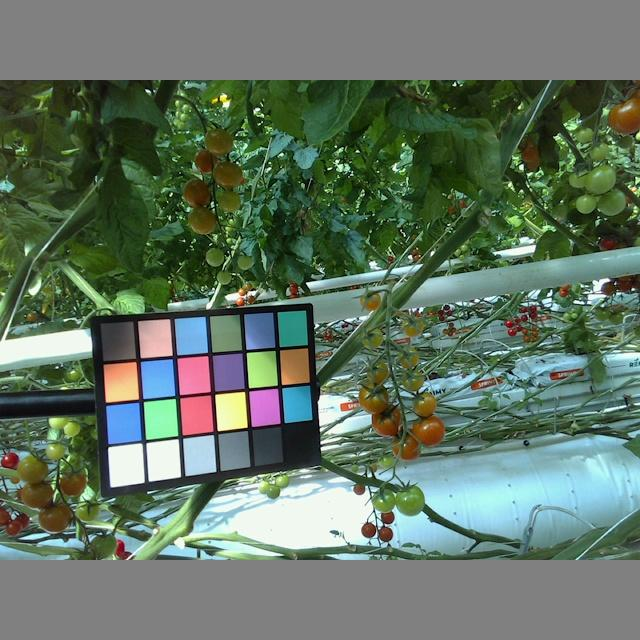green: (17, 452, 50, 485), (584, 162, 616, 195), (594, 185, 627, 216), (396, 484, 426, 517), (211, 188, 241, 214), (369, 490, 397, 514), (400, 371, 426, 394), (364, 362, 388, 386), (398, 316, 425, 337), (575, 189, 597, 214), (41, 443, 69, 462), (397, 344, 420, 367), (361, 290, 383, 312), (587, 141, 611, 161), (362, 328, 383, 349), (234, 251, 256, 271), (204, 246, 225, 266), (215, 268, 233, 286), (577, 127, 595, 143)
pink: (605, 97, 640, 133), (36, 501, 73, 532), (411, 415, 447, 446), (370, 403, 401, 438), (357, 384, 390, 416), (18, 480, 56, 507), (180, 177, 214, 207), (211, 159, 243, 188), (190, 206, 219, 236), (204, 123, 232, 154), (391, 433, 421, 461), (411, 392, 439, 419), (60, 470, 87, 496), (191, 152, 218, 171)
